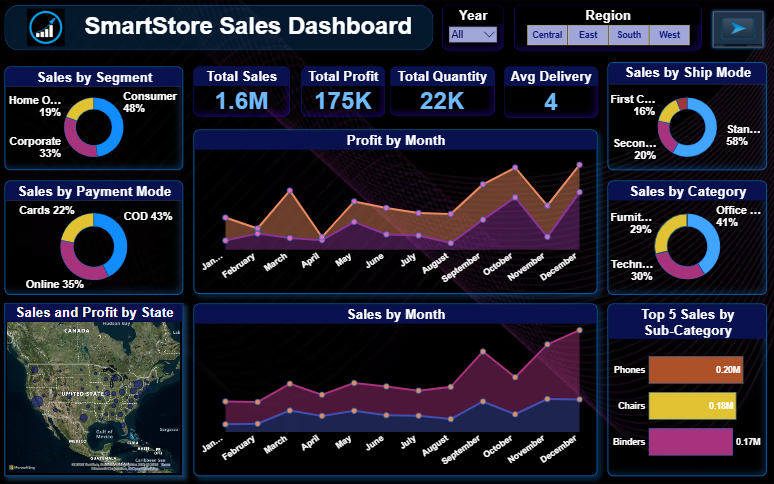

Layout of this report page (visuals, bound fields, positions):
{"tool":"powerbi","page":{"name":"Sales Dashboard","canvas":[1920,1200],"ordinal":0},"visuals":[{"type":"shape","box":[17.6,14.7,1058.8,111.8],"z":0},{"type":"textbox","box":[185.3,26.5,870.6,100],"z":1000},{"type":"barChart","title":"Top 5 Sales by Sub-Category","fields":{"Category":["SuperStore_Sales_Dataset.Sub-Category"],"Y":["Sum(SuperStore_Sales_Dataset.Sales)"]},"box":[1505.9,750,394.1,426.5],"z":2000},{"type":"stackedAreaChart","title":"Sales by Month","fields":{"Category":["SuperStore_Sales_Dataset.Order Date.Variation.Date Hierarchy.Month","SuperStore_Sales_Dataset.Order Date.Variation.Date Hierarchy.Day"],"Y":["Sum(SuperStore_Sales_Dataset.Sales)"],"Series":["SuperStore_Sales_Dataset.Order Date.Variation.Date Hierarchy.Year"]},"box":[485.3,750,997.1,426.5],"z":3000},{"type":"stackedAreaChart","title":"Profit by Month","fields":{"Category":["SuperStore_Sales_Dataset.Order Date.Variation.Date Hierarchy.Month","SuperStore_Sales_Dataset.Order Date.Variation.Date Hierarchy.Day"],"Series":["SuperStore_Sales_Dataset.Order Date.Variation.Date Hierarchy.Year"],"Y":["Sum(SuperStore_Sales_Dataset.Profit)"]},"box":[485.3,323.5,997.1,405.9],"z":4000},{"type":"donutChart","title":"Sales by Ship Mode","fields":{"Category":["SuperStore_Sales_Dataset.Ship Mode"],"Y":["Sum(SuperStore_Sales_Dataset.Sales)"]},"box":[1505.9,155.9,394.1,267.6],"z":5000},{"type":"donutChart","title":"Sales by Segment","fields":{"Category":["SuperStore_Sales_Dataset.Segment"],"Y":["Sum(SuperStore_Sales_Dataset.Sales)"]},"box":[17.6,167.6,441.2,255.9],"z":6000},{"type":"donutChart","title":"Sales by Payment Mode","fields":{"Y":["Sum(SuperStore_Sales_Dataset.Sales)"],"Category":["SuperStore_Sales_Dataset.Payment Mode"]},"box":[17.6,447.1,441.2,282.4],"z":7000},{"type":"donutChart","title":"Sales by Category","fields":{"Y":["Sum(SuperStore_Sales_Dataset.Sales)"],"Category":["SuperStore_Sales_Dataset.Category"]},"box":[1505.9,447.1,394.1,282.4],"z":8000},{"type":"map","title":"Sales and Profit by State","fields":{"Category":["SuperStore_Sales_Dataset.State"],"Size":["Sum(SuperStore_Sales_Dataset.Sales)"]},"box":[17.6,750,441.2,426.5],"z":9000},{"type":"slicer","title":"Region","fields":{"Values":["SuperStore_Sales_Dataset.Region"]},"box":[1276.5,14.7,461.8,111.8],"z":10000},{"type":"card","title":"Total Sales","fields":{"Values":["Sum(SuperStore_Sales_Dataset.Sales)"]},"box":[485.3,167.6,238.2,123.5],"z":11000},{"type":"card","title":"Total Profit","fields":{"Values":["Sum(SuperStore_Sales_Dataset.Profit)"]},"box":[752.9,167.6,205.9,123.5],"z":12000},{"type":"card","title":"Total Quantity","fields":{"Values":["Sum(SuperStore_Sales_Dataset.Quantity)"]},"box":[970.6,167.6,258.8,120.6],"z":13000},{"type":"card","title":"Avg Delivery","fields":{"Values":["Avg(SuperStore_Sales_Dataset.AvgDelivery)"]},"box":[1250,167.6,232.4,126.5],"z":14000},{"type":"slicer","title":"Year","fields":{"Values":["SuperStore_Sales_Dataset.Order Date.Variation.Date Hierarchy.Year"]},"box":[1100,14.7,150,111.8],"z":15000},{"type":"actionButton","box":[1758.8,20.6,141.2,105.9],"z":16000},{"type":"image","box":[55.9,17.6,129.4,102.9],"z":17000}]}

Visuals, with their boxes in screenshot pixels (x1, y1, x2, y2), scaled from the page's 1920x1200 canvas onto the 774x484 screenshot:
shape: BBox(7, 6, 434, 51)
textbox: BBox(75, 11, 426, 51)
"Top 5 Sales by Sub-Category" barChart: BBox(607, 302, 766, 475)
"Sales by Month" stackedAreaChart: BBox(196, 302, 598, 475)
"Profit by Month" stackedAreaChart: BBox(196, 130, 598, 294)
"Sales by Ship Mode" donutChart: BBox(607, 63, 766, 171)
"Sales by Segment" donutChart: BBox(7, 68, 185, 171)
"Sales by Payment Mode" donutChart: BBox(7, 180, 185, 294)
"Sales by Category" donutChart: BBox(607, 180, 766, 294)
"Sales and Profit by State" map: BBox(7, 302, 185, 475)
"Region" slicer: BBox(515, 6, 701, 51)
"Total Sales" card: BBox(196, 68, 292, 117)
"Total Profit" card: BBox(304, 68, 387, 117)
"Total Quantity" card: BBox(391, 68, 496, 116)
"Avg Delivery" card: BBox(504, 68, 598, 119)
"Year" slicer: BBox(443, 6, 504, 51)
actionButton: BBox(709, 8, 766, 51)
image: BBox(23, 7, 75, 49)
